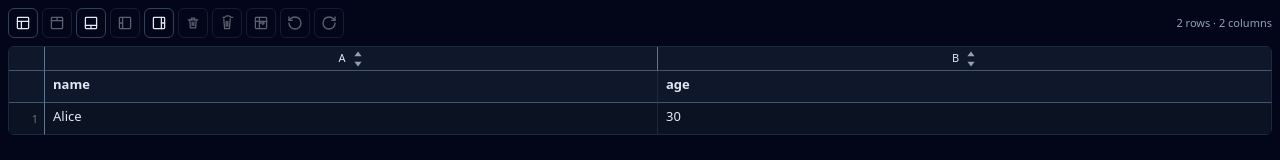
it: CsvPreview (custom grid) › Insert column before toolbar button inserts an empty column before the active column
The width and height of the screenshot is (1280, 160).
Press the mouse on the column heading "A" at (352, 59), box [45,47,658,71]
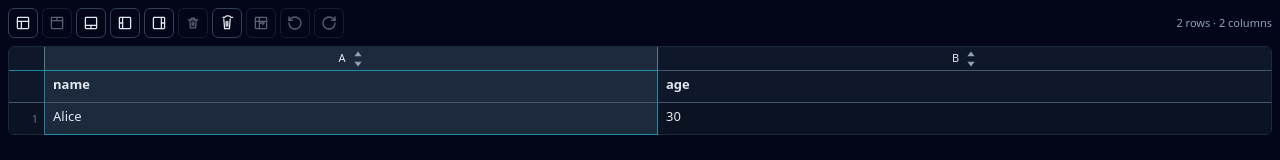
Click the button named "Insert column before" at (125, 23), box [110,8,140,38]
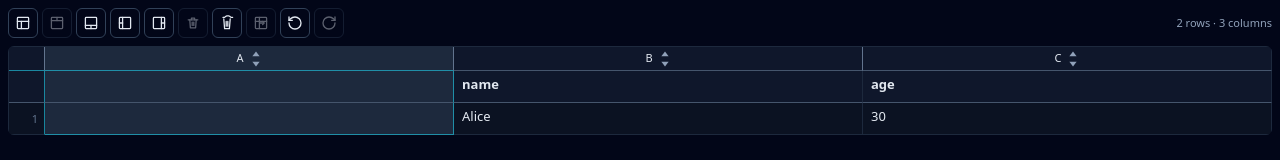
Now the text "2 rows · 3 columns" is shown, box [1176,16,1272,30]
